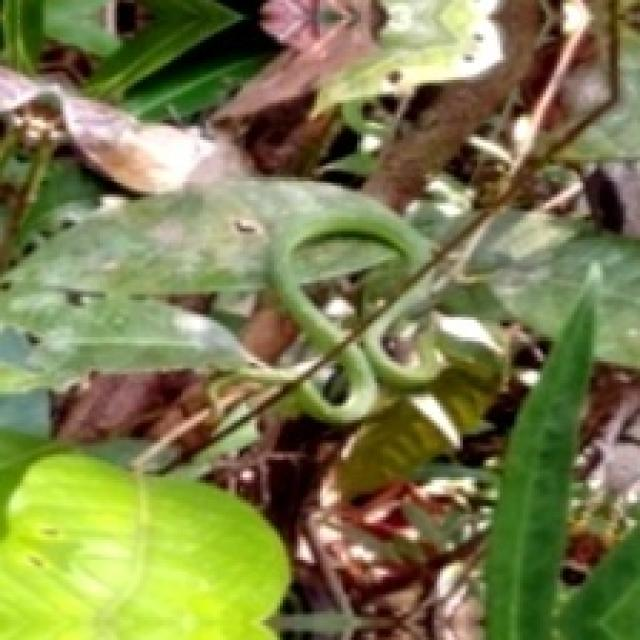north ph temple pitviper: (211, 201, 506, 434)
